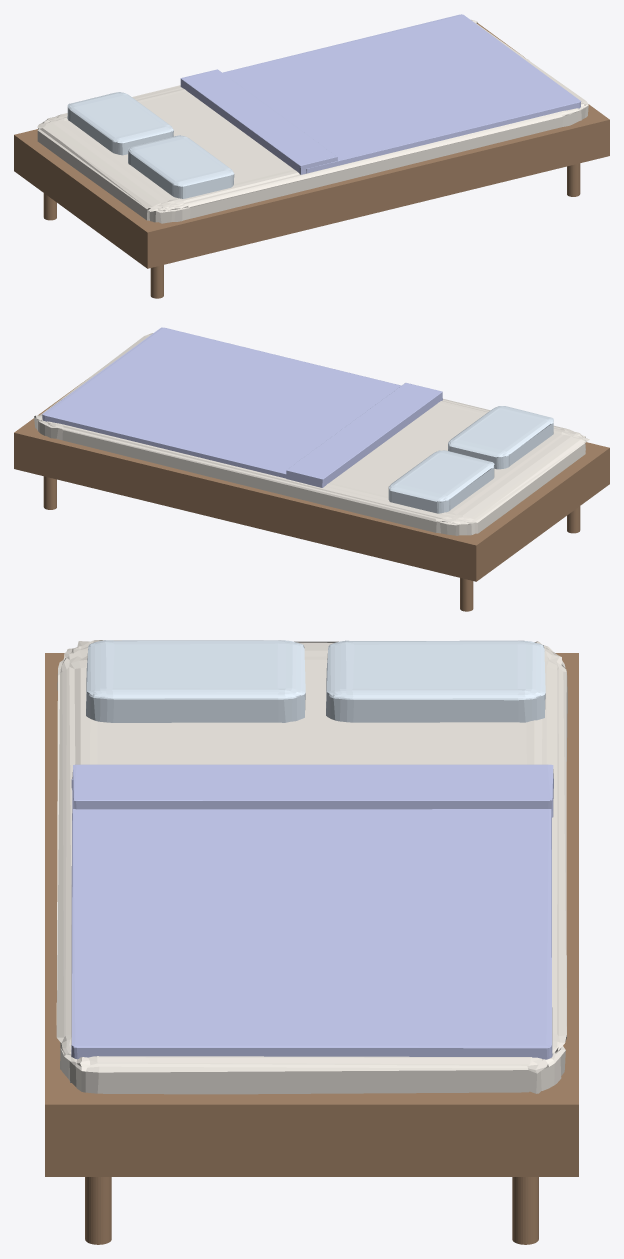
Rendered from _testbed.glb.
3 renders of one model, top to bottom at view 1: azimuth 30°, elevation 25°; view 2: azimuth 150°, elevation 25°; view 3: azimuth 270°, elevation 25°, orthographic. The views are drawn at different scales.
Visible parts, largest first — view 1: Blanket, BedFrame, Mattress, Blanket.001, Pillow_1, Pillow_2, BedLeg_1, BedLeg_2; view 2: Blanket, BedFrame, Mattress, Blanket.001, Pillow_2, Pillow_1, BedLeg_3, BedLeg_4; view 3: Blanket, BedFrame, Mattress, Blanket.001, Pillow_1, Pillow_2, BedLeg_2, BedLeg_4.
Boxes of the visible parts, x1,y1,x2,y2 form: Blanket: (223, 14, 581, 173); BedFrame: (14, 23, 609, 268); Mattress: (37, 19, 588, 223); Blanket.001: (180, 69, 337, 174); Pillow_1: (128, 135, 234, 198); Pillow_2: (67, 92, 173, 155); BedLeg_1: (150, 265, 163, 298); BedLeg_2: (567, 163, 580, 196); Blanket: (42, 327, 401, 478); BedFrame: (14, 380, 609, 581); Mattress: (34, 333, 589, 535); Blanket.001: (286, 383, 442, 487); Pillow_2: (388, 450, 494, 513); Pillow_1: (448, 406, 553, 469); BedLeg_3: (460, 578, 473, 611); BedLeg_4: (43, 476, 56, 509); Blanket: (71, 779, 552, 1059); BedFrame: (45, 653, 578, 1176); Mattress: (56, 640, 567, 1094); Blanket.001: (72, 764, 553, 817); Pillow_1: (86, 640, 305, 722); Pillow_2: (326, 640, 545, 722); BedLeg_2: (85, 1177, 111, 1244); BedLeg_4: (512, 1177, 538, 1244).
Bounding box in the file's own units: 4 × 0.884 × 2.
